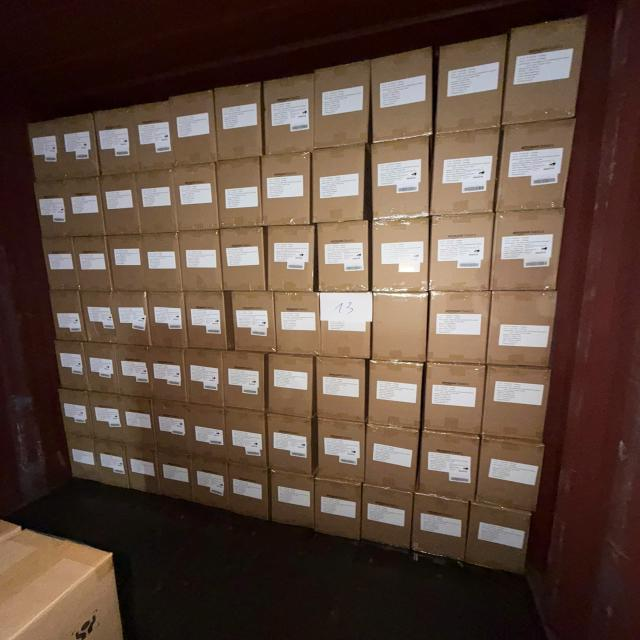Carton: (506, 5, 592, 121), (500, 121, 580, 215), (438, 35, 509, 132), (491, 209, 564, 291), (374, 46, 436, 142), (430, 131, 498, 217), (485, 290, 556, 370), (316, 65, 374, 152), (486, 366, 551, 443), (428, 214, 492, 292), (478, 438, 544, 513), (373, 139, 432, 221), (469, 500, 531, 578), (428, 293, 489, 367), (424, 360, 484, 434), (370, 216, 428, 292), (314, 145, 370, 223), (420, 427, 478, 501), (413, 493, 468, 569), (318, 221, 372, 295), (366, 358, 422, 428), (374, 294, 429, 365), (265, 78, 314, 156), (364, 422, 418, 492), (90, 105, 142, 175), (262, 155, 311, 229), (214, 86, 261, 162), (359, 484, 410, 554), (321, 295, 374, 362), (130, 99, 176, 174), (266, 226, 316, 294), (316, 359, 368, 424), (317, 419, 367, 485), (266, 352, 314, 420), (316, 477, 365, 542), (175, 93, 217, 168), (217, 157, 260, 229), (55, 111, 101, 178), (266, 412, 314, 476), (229, 290, 276, 354), (272, 291, 318, 356), (176, 165, 220, 232), (138, 230, 184, 294), (221, 227, 266, 292), (61, 174, 108, 236), (269, 470, 315, 532), (188, 450, 232, 512), (26, 117, 67, 183), (222, 348, 265, 410), (225, 410, 268, 471), (180, 230, 223, 290), (31, 180, 74, 240), (104, 234, 148, 292), (226, 464, 268, 524), (153, 447, 197, 504), (186, 294, 227, 354), (104, 175, 143, 237), (118, 393, 159, 450), (138, 171, 174, 235), (187, 346, 225, 405), (122, 442, 163, 496), (190, 403, 228, 461), (56, 387, 97, 440), (147, 295, 185, 352), (92, 437, 132, 491), (74, 237, 112, 292), (64, 432, 102, 486), (152, 348, 188, 403), (116, 294, 150, 350), (117, 346, 152, 400), (152, 401, 188, 453), (45, 240, 79, 293), (80, 295, 114, 346), (51, 294, 85, 345), (89, 393, 124, 442), (86, 342, 118, 394), (56, 341, 88, 391)
